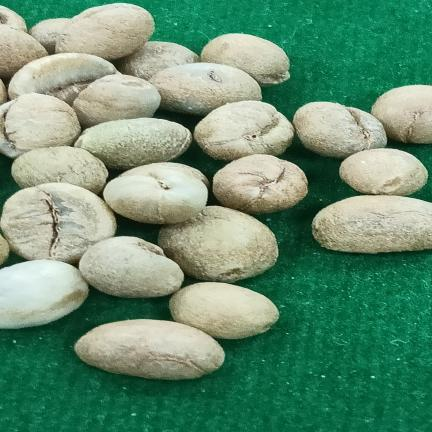good: (0, 183, 116, 264), (74, 319, 224, 380), (312, 195, 432, 254), (79, 236, 184, 298), (169, 282, 279, 339), (74, 118, 192, 170), (194, 100, 294, 161), (0, 260, 88, 329), (150, 63, 262, 116), (8, 53, 120, 105), (212, 154, 307, 214), (55, 3, 154, 60), (103, 171, 208, 224), (293, 102, 387, 159), (0, 93, 81, 159), (11, 146, 108, 195), (201, 34, 290, 87), (72, 74, 160, 127), (339, 148, 428, 196), (371, 85, 432, 144), (115, 41, 200, 81), (0, 25, 48, 78), (29, 18, 70, 55)
